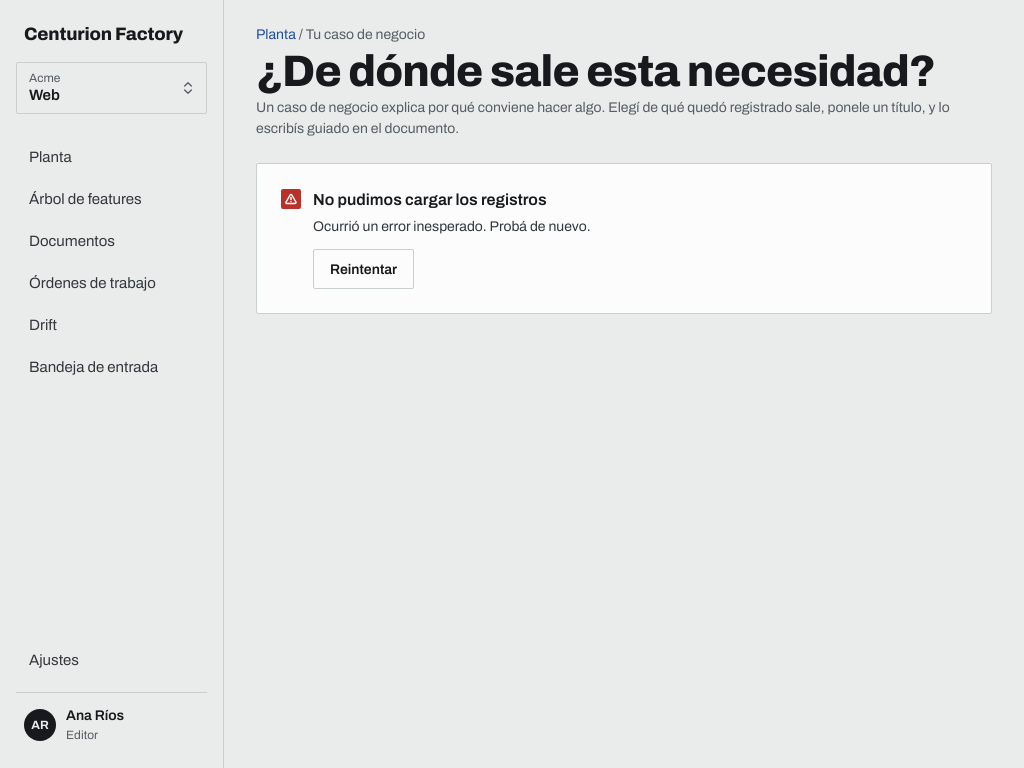
Test: ConstruirNegocio — around the edges (WO-562, SDD-053) › says it could not read them, and can try again
Expected: the text "No pudimos cargar los registros" is shown, [313,191,546,208]
Click the button "Reintentar" at (364, 269), box [313,249,414,289]
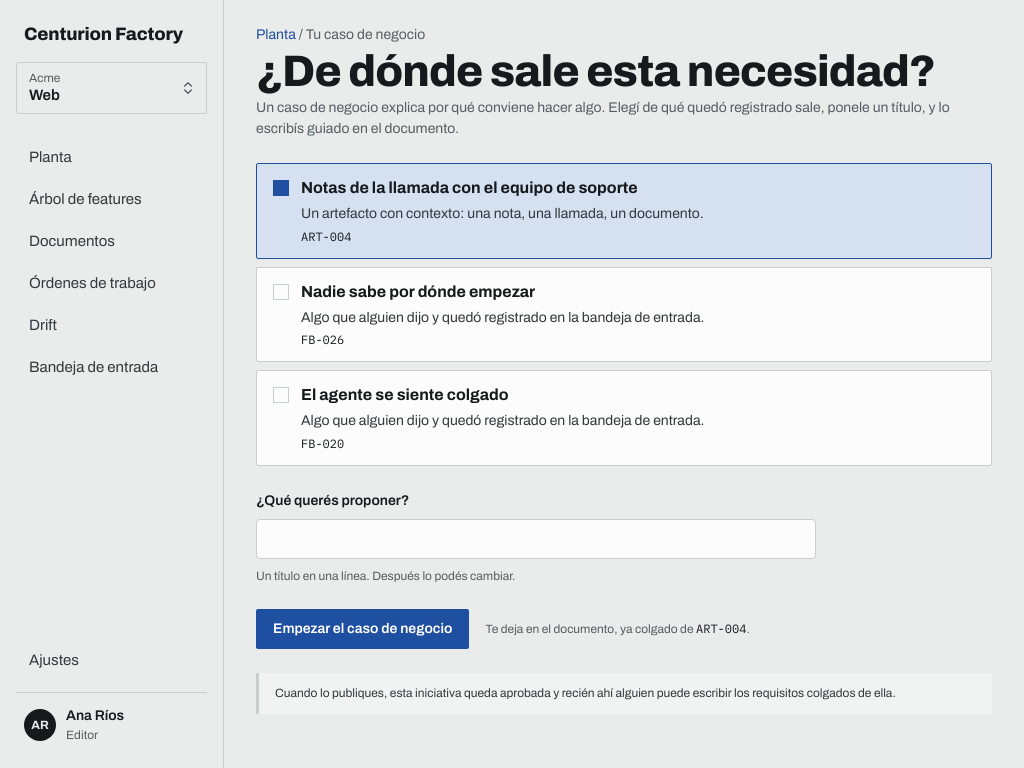
Expected: the element named "Elegí de dónde sale" is shown, [256,163,992,466]
